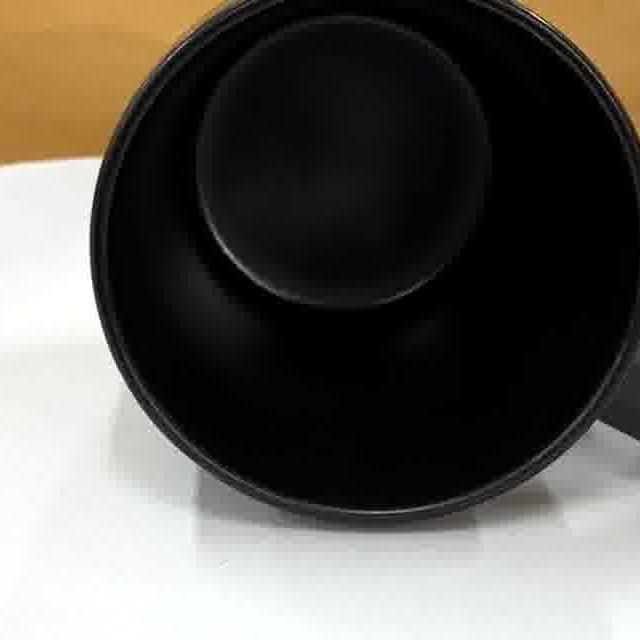cup: (91, 0, 640, 528)
